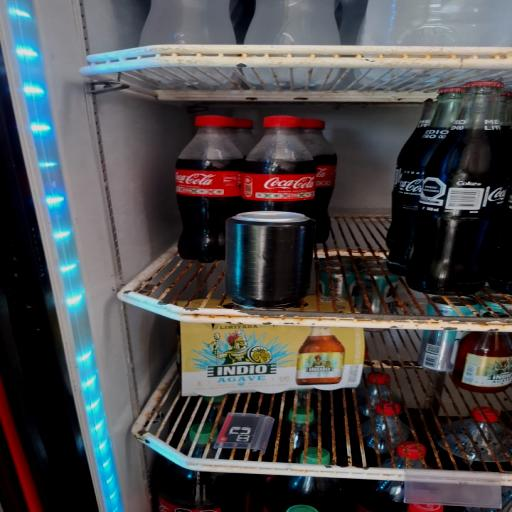LATA: (223, 206, 319, 312)
